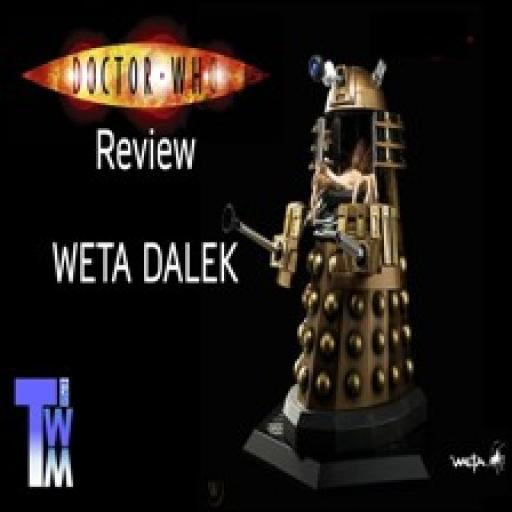dalek: (219, 51, 431, 454)
